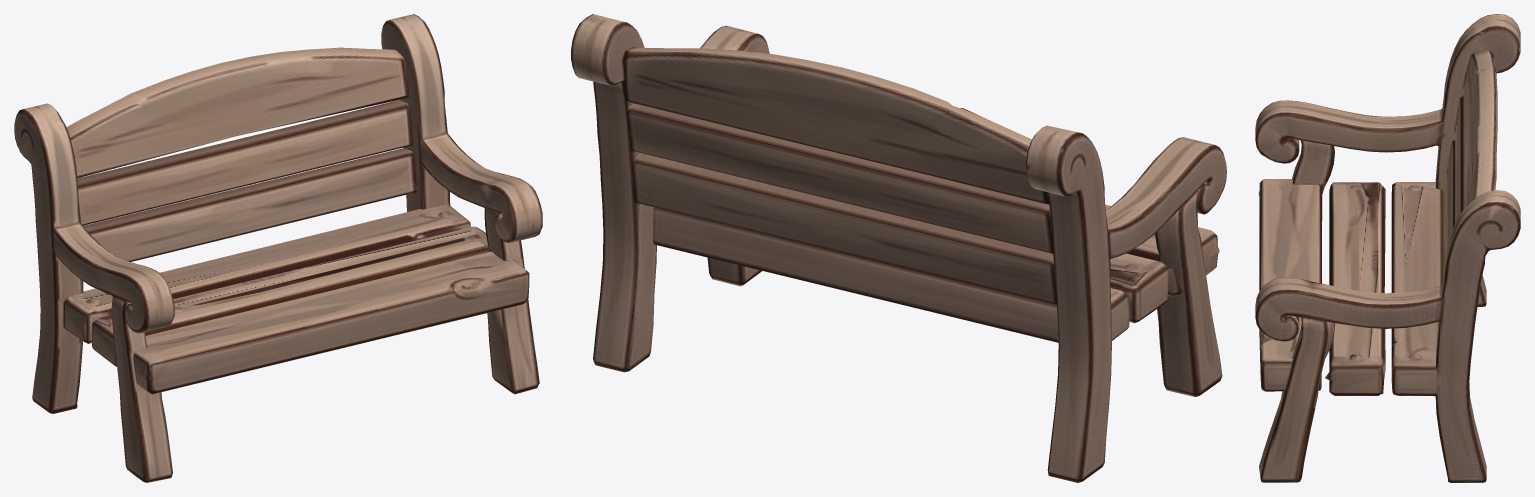
The model's file is item-bench.glb.
The picture shows the model from 3 angles, left to right: view 1: azimuth 30°, elevation 25°; view 2: azimuth 150°, elevation 25°; view 3: azimuth 270°, elevation 25°; orthographic projection. The views are drawn at different scales.
Bounding box in the file's own units: 0.9517 × 0.6567 × 0.5562.
1 material, 1 textured.
